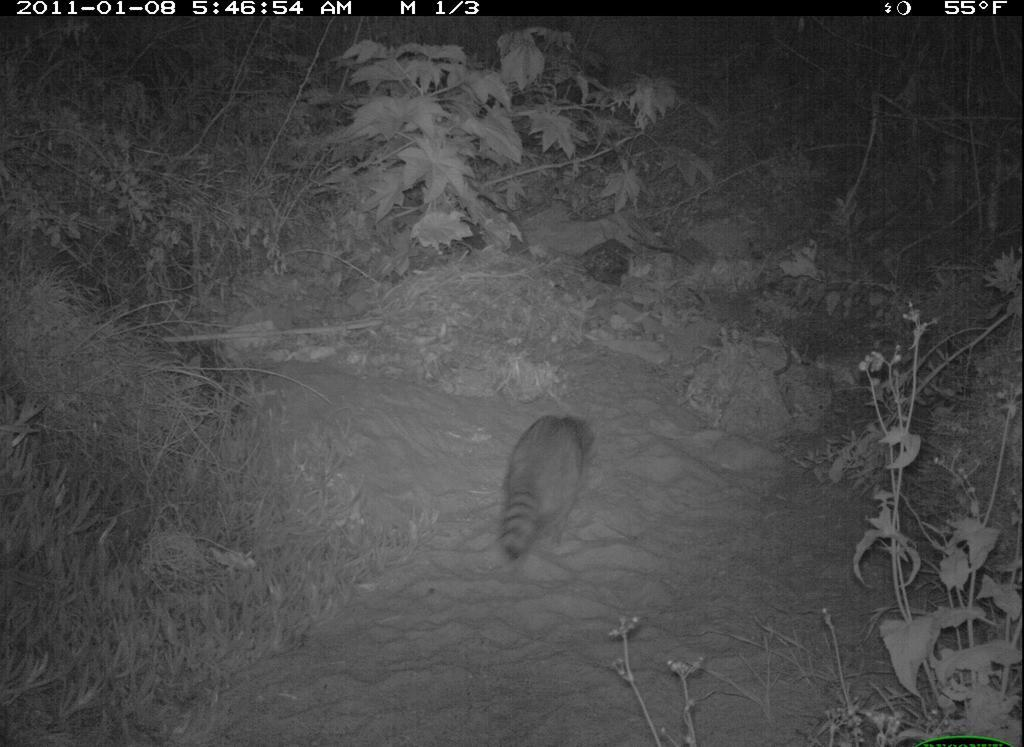raccoon: (491, 409, 600, 561)
